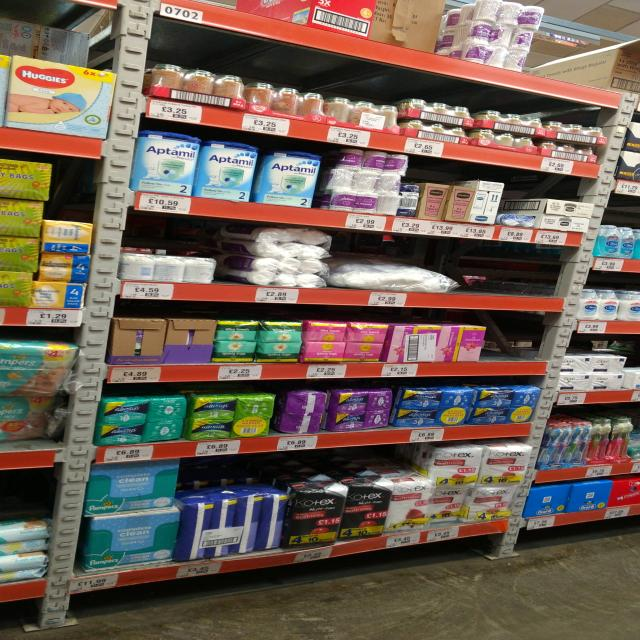empty: (451, 250, 567, 305), (479, 312, 554, 366)
